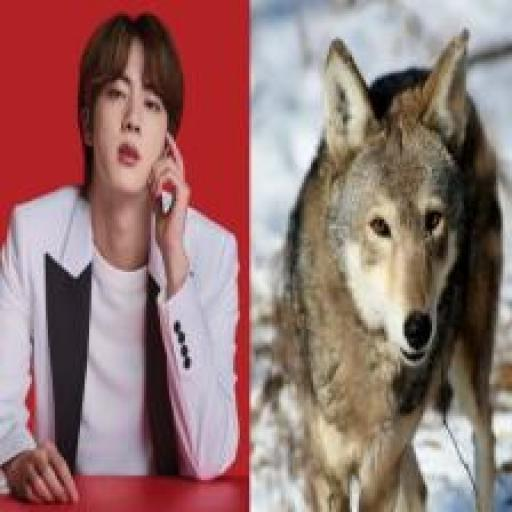wolf: (260, 7, 512, 512)
